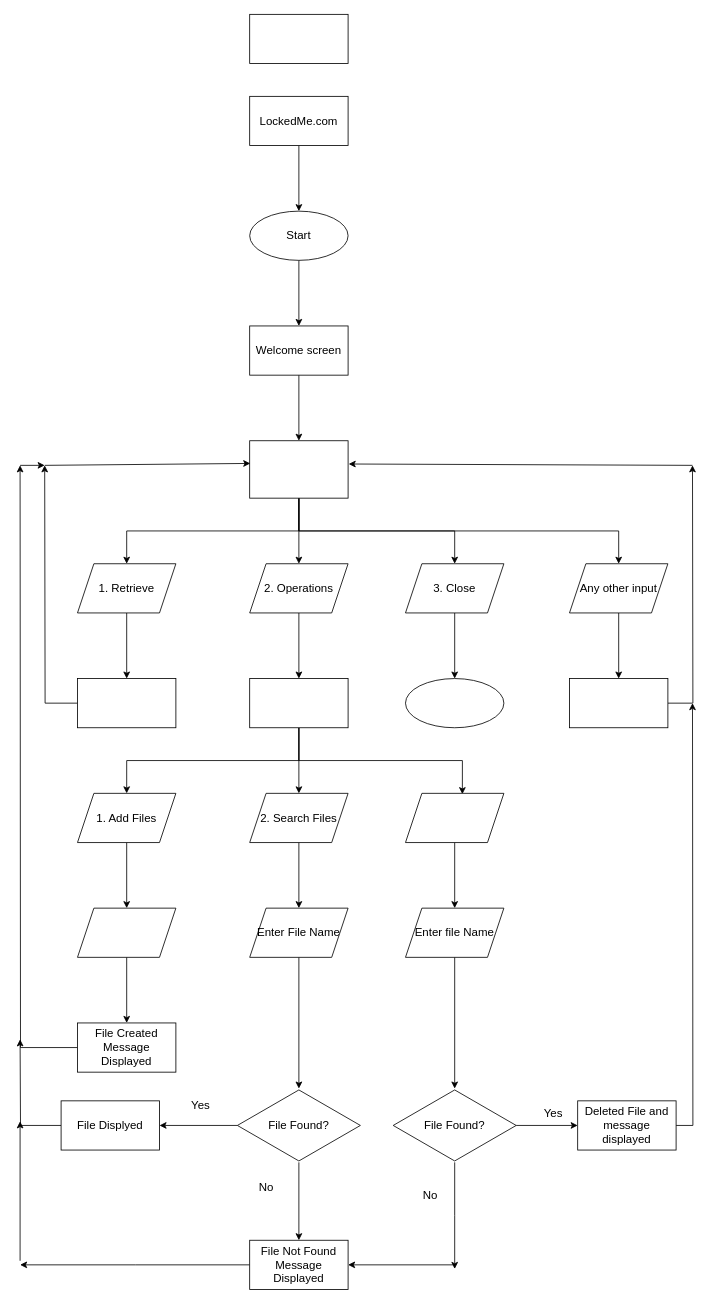
Image size: 714x1304. Some labels were removed from this diagram. Each missing label, with the box of its shape:
1. Add Files 2. Search Files 3. Delete Files: (249, 678, 348, 728)
3. Delete Files: (405, 793, 504, 843)
Display error message: (569, 678, 668, 728)
End: (405, 678, 504, 728)
Enter File Name and content: (77, 907, 176, 957)
Enter Options: 1. Retrieve 2. Operations 3. Close: (249, 440, 348, 498)
List of files displayed: (77, 678, 176, 728)
Lockers Pvt. Ltd.: (249, 14, 348, 64)
